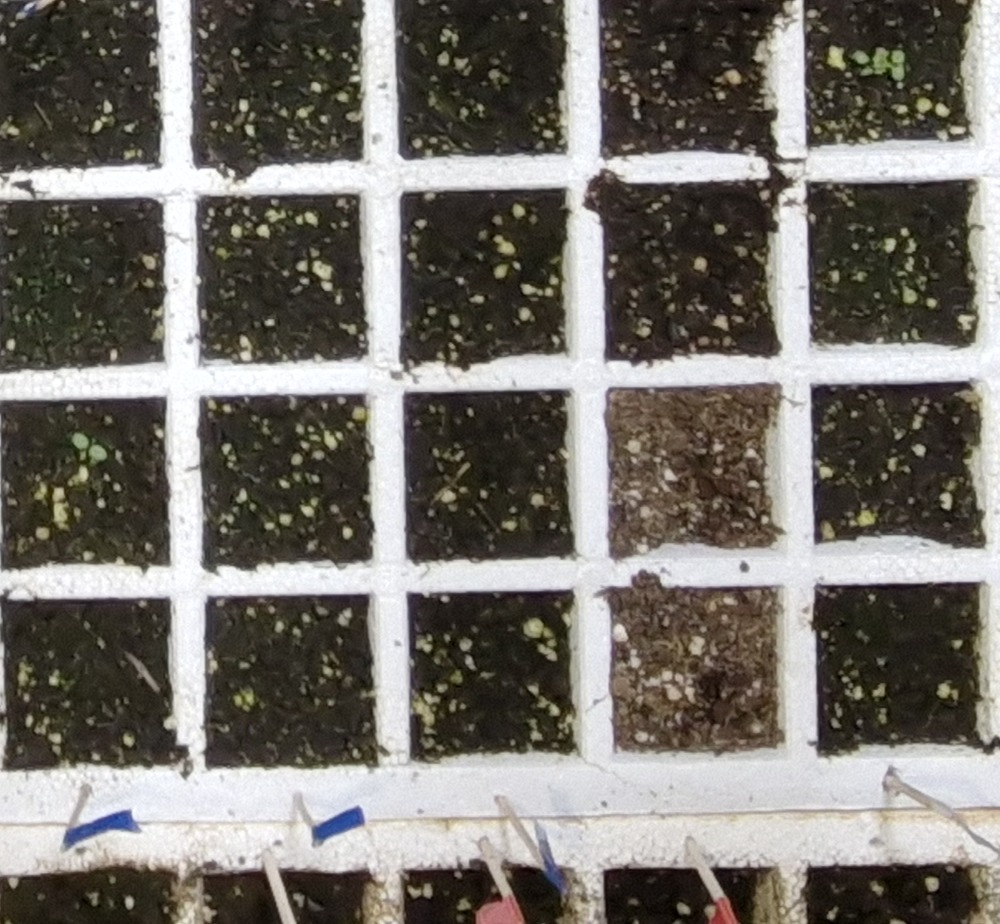Folha: (873, 47, 889, 71), (72, 433, 92, 448), (88, 445, 107, 460), (892, 64, 905, 80), (891, 51, 905, 62)
Germinacao: (70, 433, 108, 461), (872, 50, 904, 79)
